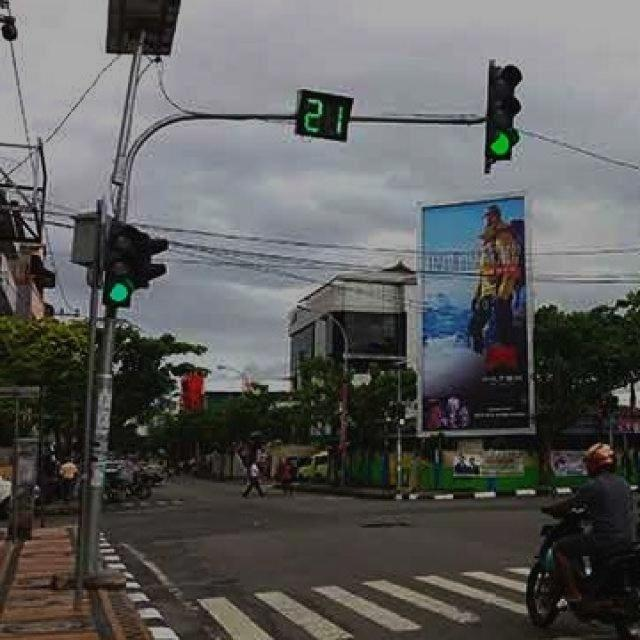Green: (83, 208, 172, 350), (469, 52, 538, 185)
